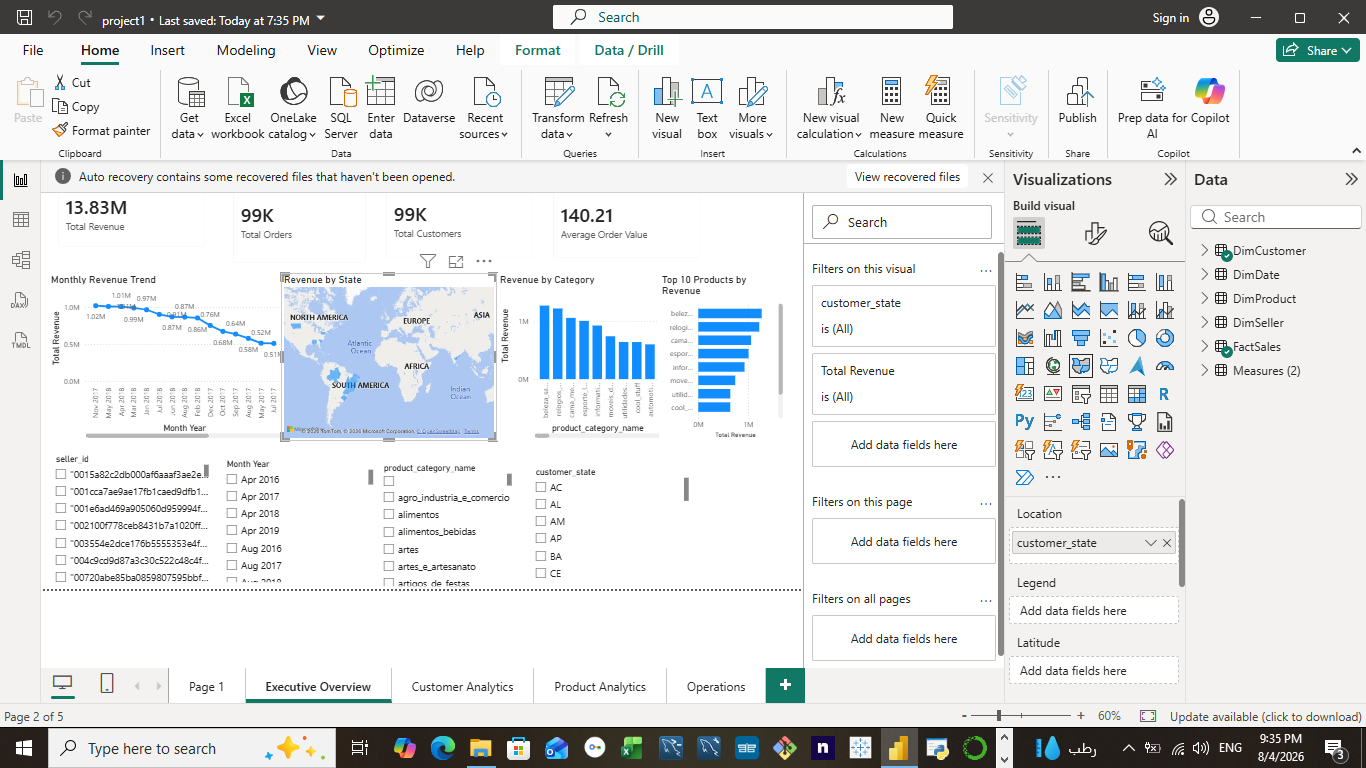

Layout of this report page (visuals, bound fields, positions):
{"tool":"powerbi","page":{"name":"Executive Overview","canvas":[1280,720],"ordinal":1},"visuals":[{"type":"cardVisual","title":"revenue","fields":{"Data":["FactSales.Total Revenue"]},"box":[11.8,11.8,280.5,151.2],"z":0},{"type":"cardVisual","fields":{"Data":["FactSales.Total Orders"]},"box":[305.7,11.8,257,178.1],"z":1000},{"type":"cardVisual","fields":{"Data":["FactSales.Total Customers"]},"box":[562.7,18.5,280.5,162.9],"z":2000},{"type":"cardVisual","fields":{"Data":["FactSales.Average Order Value"]},"box":[843.3,20.2,280.5,161.3],"z":3000},{"type":"lineChart","title":"Monthly Revenue Trend","fields":{"Category":["DimDate.Month Year"],"Y":["FactSales.Total Revenue"]},"box":[11.8,189.8,401.5,282.2],"z":4000},{"type":"filledMap","title":"Revenue by State","fields":{"Category":["DimCustomer.customer_state"]},"box":[403.1,189.8,362.8,282.2],"z":5000},{"type":"clusteredColumnChart","title":"Revenue by Category","fields":{"Category":["DimProduct.product_category_name"],"Y":["FactSales.Total Revenue"]},"box":[766,189.8,280.5,282.2],"z":6000},{"type":"clusteredBarChart","title":"Top 10 Products by Revenue","fields":{"Category":["DimProduct.product_category_name"],"Y":["FactSales.Total Revenue"]},"box":[1038.1,189.8,213.3,282.2],"z":7000},{"type":"slicer","fields":{"Values":["DimDate.Month Year"]},"box":[299,497.2,263.7,216.7],"z":7001},{"type":"slicer","fields":{"Values":["DimProduct.product_category_name"]},"box":[562.7,503.9,233.5,216.7],"z":7002},{"type":"slicer","fields":{"Values":["DimSeller.seller_id"]},"box":[11.8,488.8,275.5,231.8],"z":7003},{"type":"slicer","fields":{"Values":["DimCustomer.customer_state"]},"box":[818.1,510.7,275.5,204.9],"z":7004}]}

Visuals, with their boxes on the page's 1280x720 design canvas (x1, y1, x2, y2). These are canvas units, not pixel positions in the 1366x768 screenshot, which may show the page scaled, cropped or inside an application window:
"revenue" cardVisual: <region>12, 12, 292, 163</region>
cardVisual - FactSales.Total Orders: <region>306, 12, 563, 190</region>
cardVisual - FactSales.Total Customers: <region>563, 18, 843, 181</region>
cardVisual - FactSales.Average Order Value: <region>843, 20, 1124, 182</region>
"Monthly Revenue Trend" lineChart: <region>12, 190, 413, 472</region>
"Revenue by State" filledMap: <region>403, 190, 766, 472</region>
"Revenue by Category" clusteredColumnChart: <region>766, 190, 1046, 472</region>
"Top 10 Products by Revenue" clusteredBarChart: <region>1038, 190, 1251, 472</region>
slicer - DimDate.Month Year: <region>299, 497, 563, 714</region>
slicer - DimProduct.product_category_name: <region>563, 504, 796, 721</region>
slicer - DimSeller.seller_id: <region>12, 489, 287, 721</region>
slicer - DimCustomer.customer_state: <region>818, 511, 1094, 716</region>
